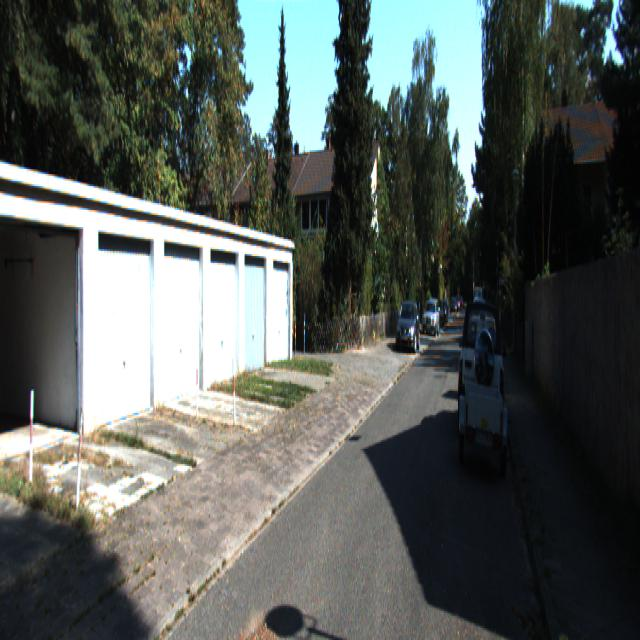Car: (458, 292, 503, 440), (465, 381, 506, 484), (397, 300, 421, 352), (422, 298, 440, 334)
